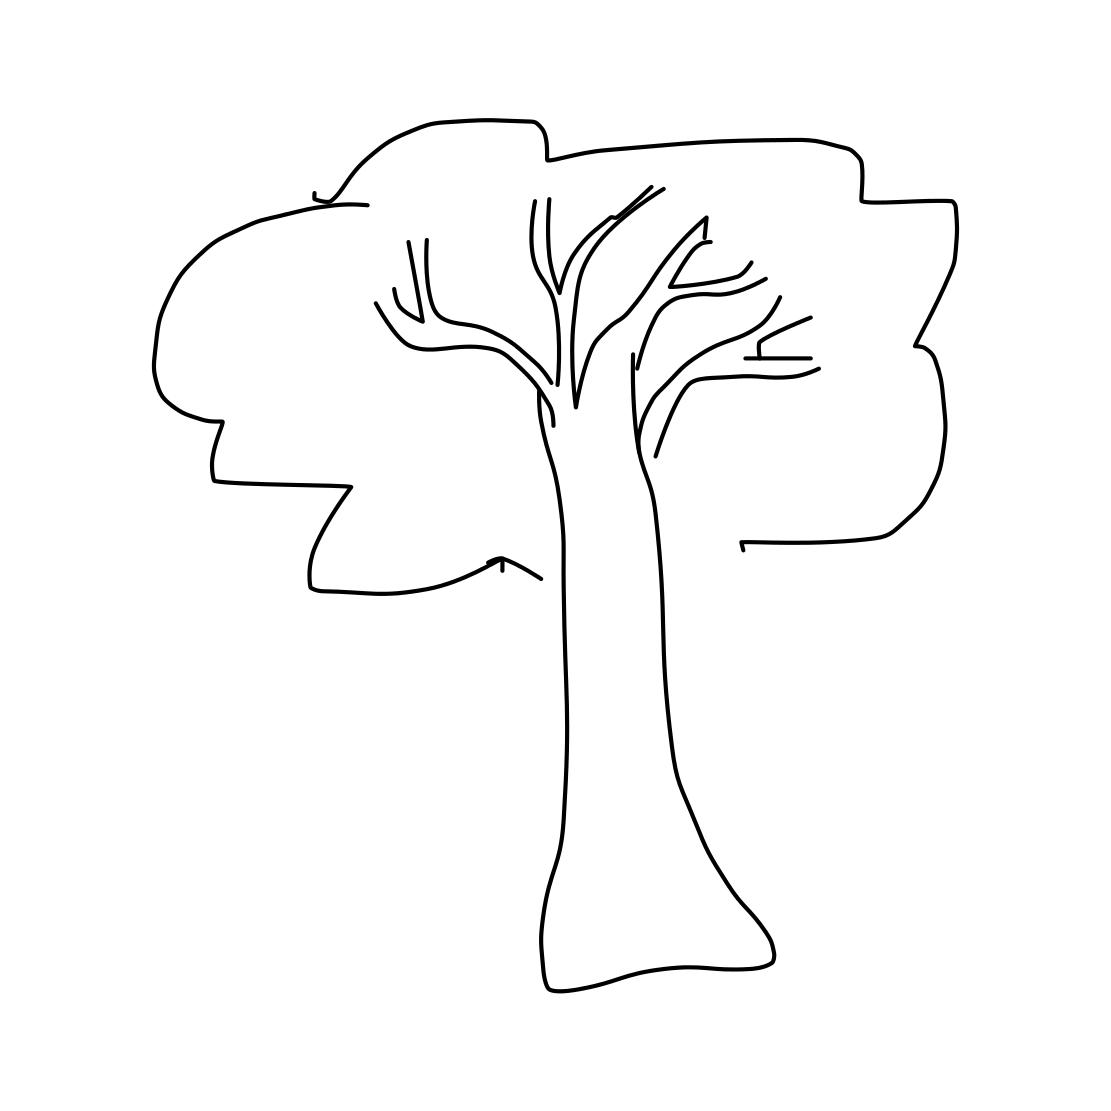Tree: (110, 72, 980, 1000)
